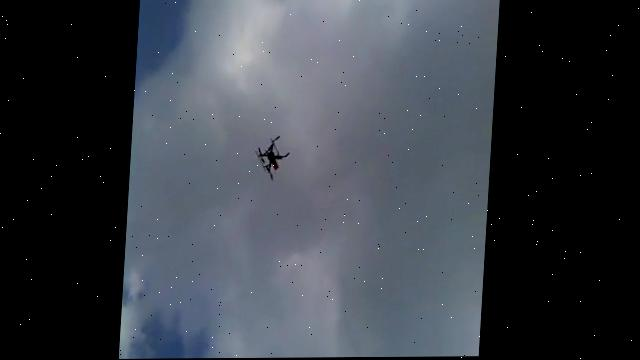drone: (256, 131, 297, 183)
